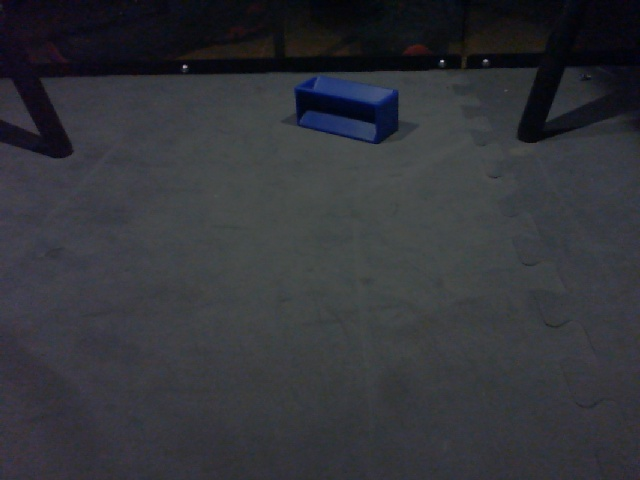BlueSample: (292, 74, 403, 147)
